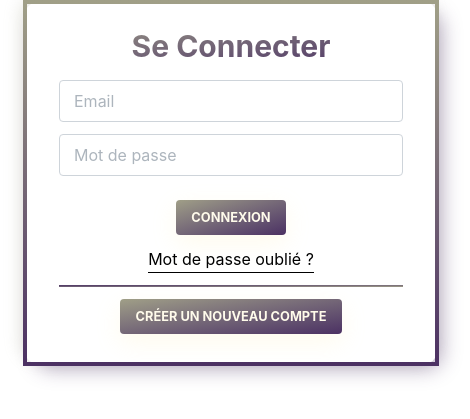
Test: LoginForm › requires the password as well as the email
Type "sara@exemple.fr" into the field with placeholder "Email". click: (231, 101)
box: [59,80,403,122]
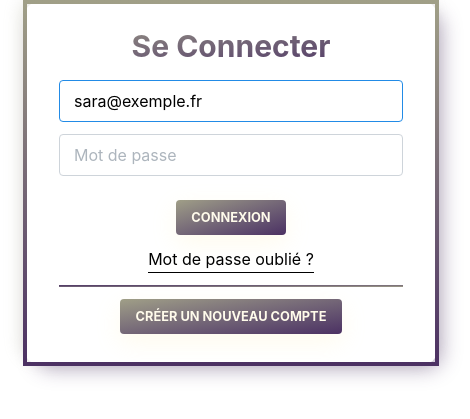
Click the button "CONNEXION". click: click(231, 218)
box: [176,200,286,235]
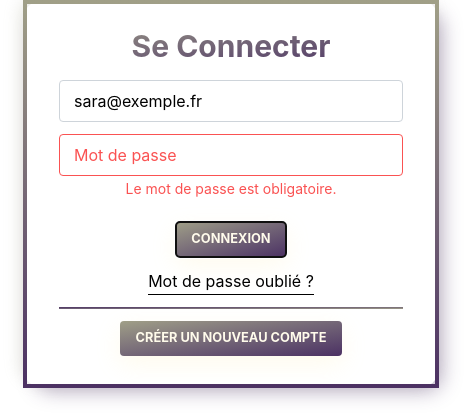
Check: the text "Le mot de passe est obligatoire." is shown, box [126,180,336,197]
